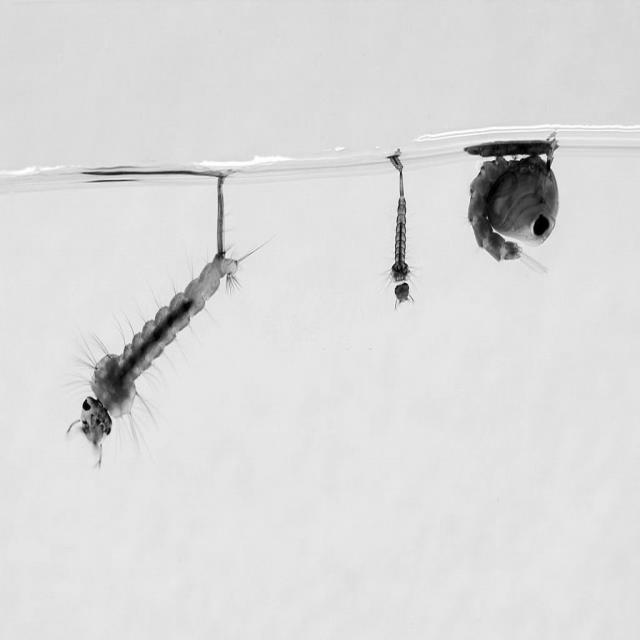larvas: (78, 253, 240, 442), (388, 143, 414, 302)
